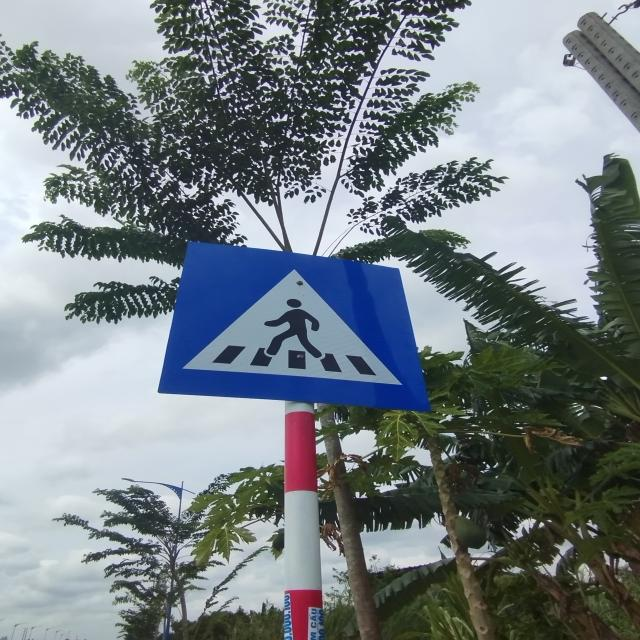Giao_Nhau_Duong_Uu_Tien: (158, 241, 428, 410)
